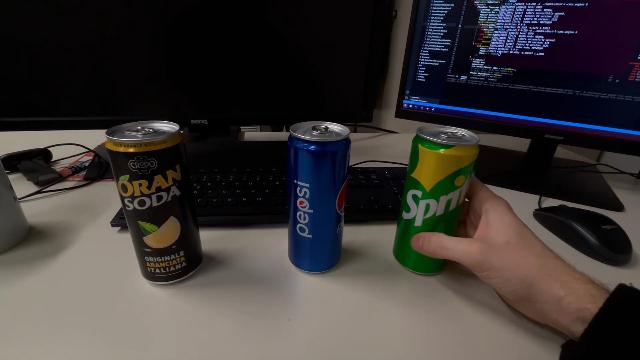OranSoda: (104, 120, 206, 288)
Pepsi: (286, 119, 352, 276)
Sprite: (392, 123, 482, 279)
